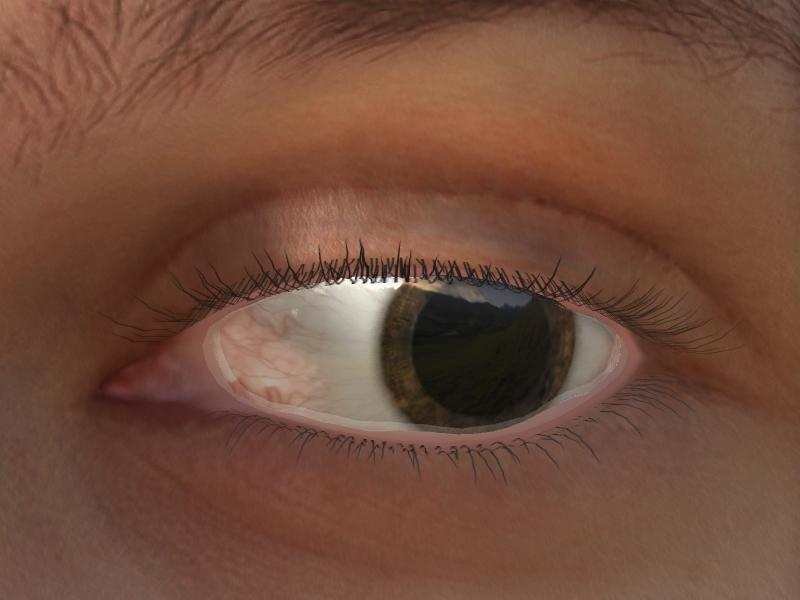eye: (383, 275, 576, 434)
